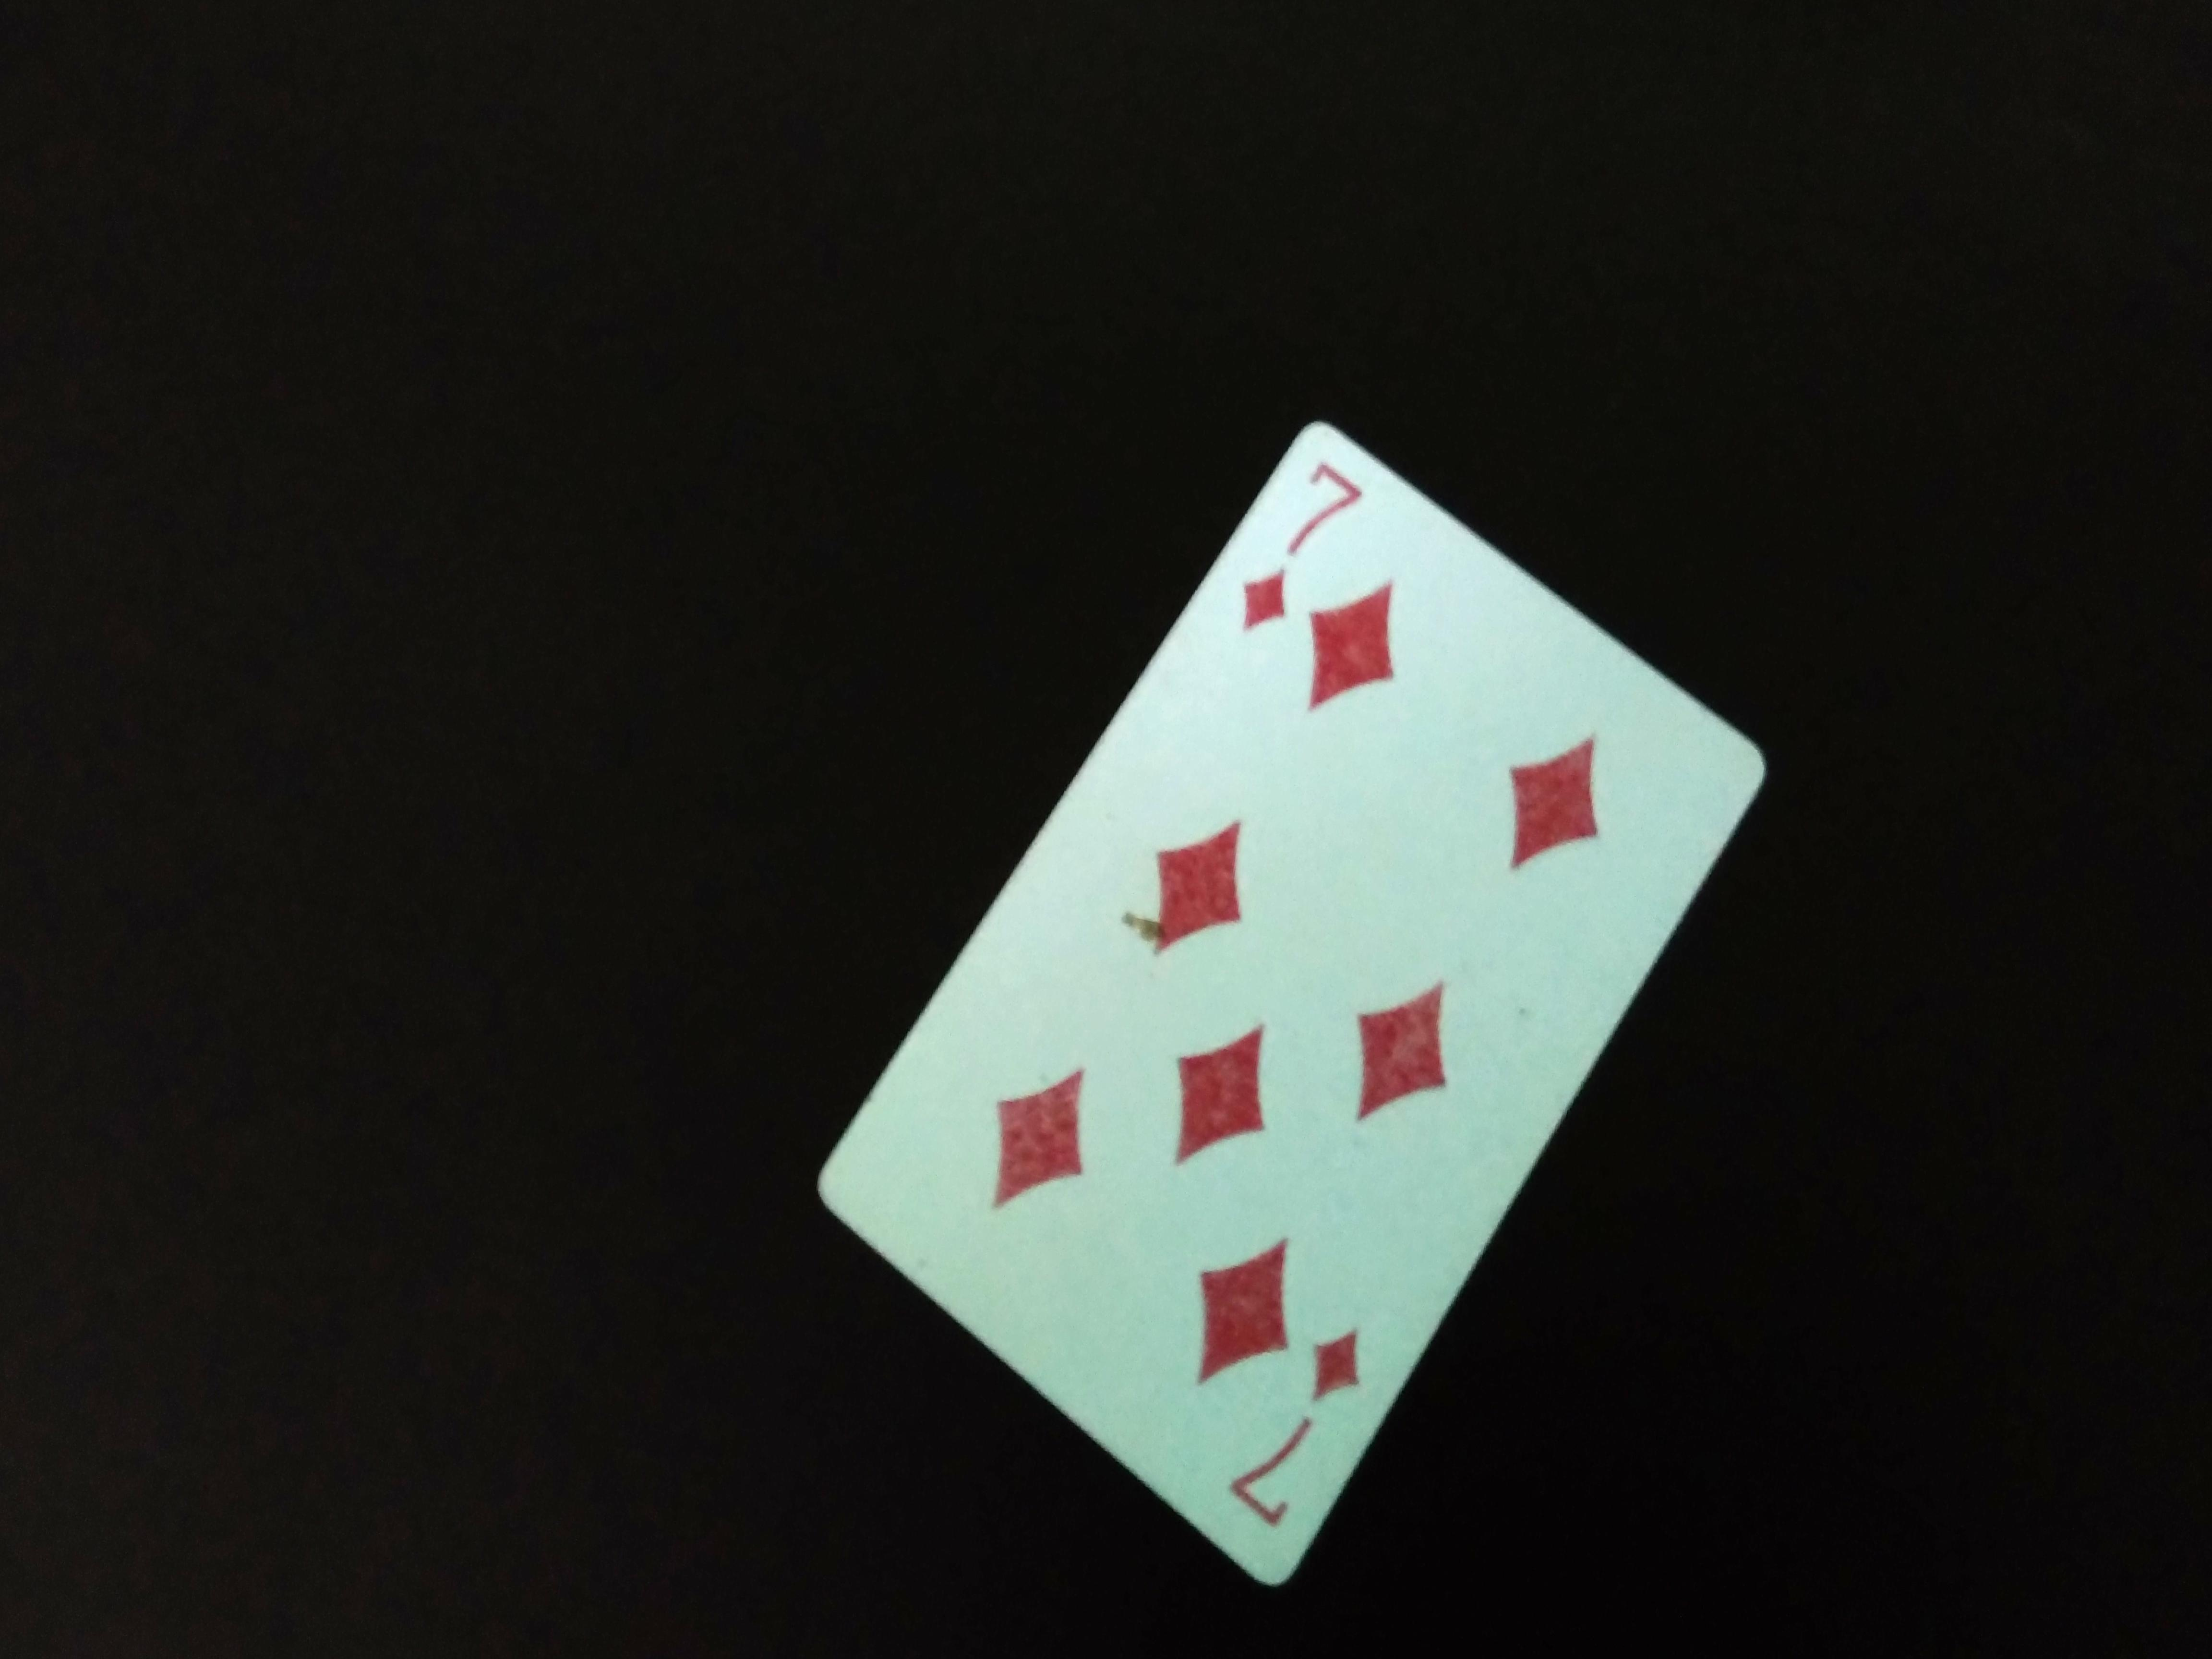7D: (1228, 444, 1376, 629)
